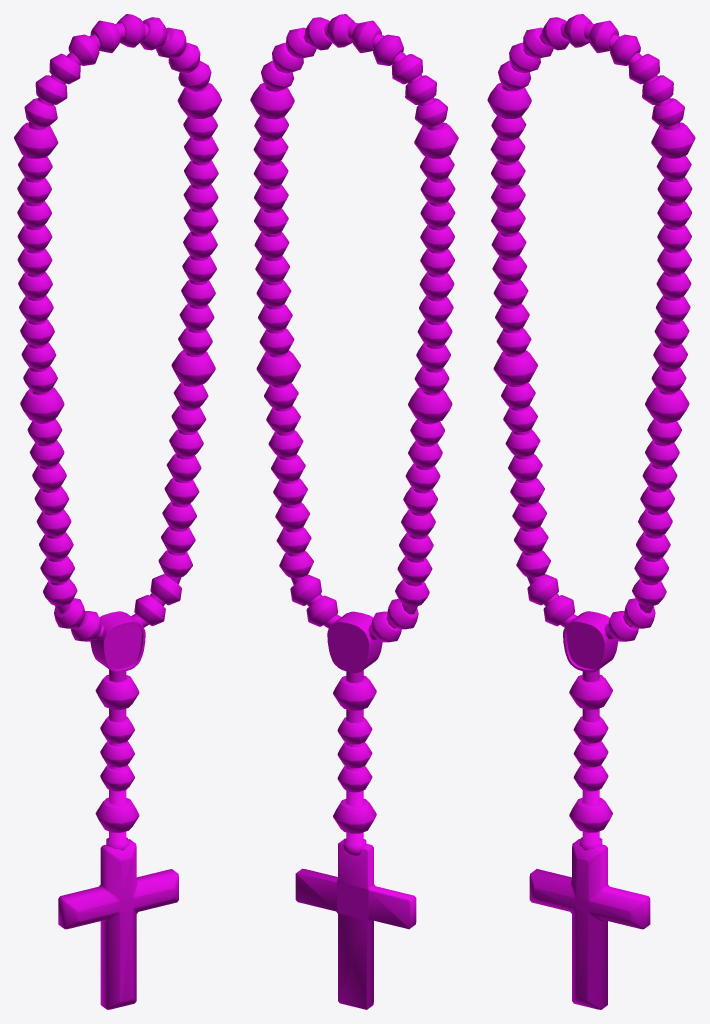
The model's file is SM_Rosary_mesh_lod0.fbx.
3 renders of one model, left to right at view 1: azimuth 30°, elevation 25°; view 2: azimuth 150°, elevation 25°; view 3: azimuth 330°, elevation 25°, orthographic.
Visible parts, largest first — view 1: cross, cord, decorated bead, Cylinder.026, short cord, Cylinder.043, Cylinder.055, Cylinder.015, Cylinder.004, Cylinder.059, Cylinder.029, Cylinder.030 (+51 smaller); view 2: cross, cord, decorated bead, short cord, Cylinder.026, Cylinder.055, Cylinder.043, Cylinder.015, Cylinder.004, Cylinder.059, Cylinder.028, Cylinder.027 (+51 smaller); view 3: cross, cord, decorated bead, Cylinder.055, Cylinder.015, Cylinder.043, short cord, Cylinder.026, Cylinder.059, Cylinder.004, Cylinder.056, Cylinder.057 (+51 smaller).
Boxes of the visible parts, x1,y1,x2,y2 form: cross: (58, 839, 178, 1009); cord: (25, 23, 209, 639); decorated bead: (90, 611, 145, 672); Cylinder.026: (14, 122, 58, 158); short cord: (106, 669, 128, 850); Cylinder.043: (171, 350, 215, 385); Cylinder.055: (177, 83, 221, 118); Cylinder.015: (20, 387, 64, 422); Cylinder.004: (95, 674, 139, 709); Cylinder.059: (95, 797, 139, 832); Cylinder.029: (49, 53, 80, 84); Cylinder.030: (68, 34, 99, 65); cross: (295, 838, 416, 1009); cord: (262, 22, 447, 640); decorated bead: (327, 611, 382, 672); short cord: (343, 670, 366, 855); Cylinder.026: (414, 122, 458, 158); Cylinder.055: (250, 83, 294, 119); Cylinder.043: (256, 350, 300, 385); Cylinder.015: (408, 388, 452, 422); Cylinder.004: (333, 675, 376, 710); Cylinder.059: (333, 798, 376, 833); Cylinder.028: (405, 75, 436, 104); Cylinder.027: (415, 98, 447, 127); cross: (529, 839, 650, 1009); cord: (498, 23, 683, 639); decorated bead: (563, 611, 618, 672); Cylinder.055: (651, 122, 695, 158); Cylinder.015: (493, 350, 537, 385); Cylinder.043: (645, 387, 689, 422); short cord: (579, 669, 602, 850); Cylinder.026: (487, 83, 531, 118); Cylinder.059: (569, 797, 612, 832); Cylinder.004: (569, 674, 612, 709); Cylinder.056: (651, 98, 684, 127); Cylinder.057: (642, 75, 673, 104).
Bounding box in the file's own units: 12.4 × 57.79 × 2.25.
